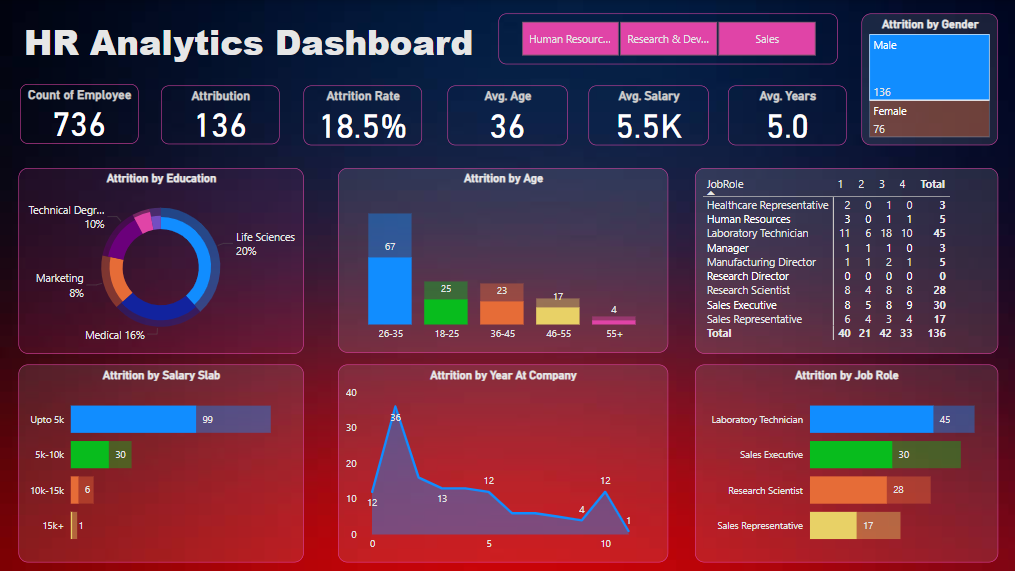

Layout of this report page (visuals, bound fields, positions):
{"tool":"powerbi","page":{"name":"Page 1","canvas":[1280,720],"ordinal":0},"visuals":[{"type":"card","title":"Count of Employee","fields":{"Values":["CountNonNull(HR_Analytics.EmpID)"]},"box":[26.5,105.8,149.3,75.6],"z":0},{"type":"card","title":"Avg. Age ","fields":{"Values":["Avg(HR_Analytics.Age)"]},"box":[565,107.7,151.2,75.6],"z":1000},{"type":"card","title":"Attribution","fields":{"Values":["Sum(HR_Analytics.AttritionCount)"]},"box":[204.1,107.7,149.3,73.7],"z":2000},{"type":"card","title":"Attrition Rate","fields":{"Values":["HR_Analytics.AttritionRate"]},"box":[383.6,107.7,149.3,75.6],"z":3000},{"type":"card","title":"Avg. Salary","fields":{"Values":["Avg(HR_Analytics.MonthlyIncome)"]},"box":[742.7,107.7,151.2,75.6],"z":4000},{"type":"card","title":"Avg. Years","fields":{"Values":["Avg(HR_Analytics.YearsAtCompany)"]},"box":[918.4,107.7,149.3,75.6],"z":5000},{"type":"donutChart","title":"Attrition by Education","fields":{"Category":["HR_Analytics.EducationField"],"Y":["Sum(HR_Analytics.AttritionCount)"]},"box":[24.6,211.7,359.1,234.3],"z":6000},{"type":"columnChart","title":"Attrition by Age","fields":{"Category":["HR_Analytics.AgeGroup"],"Y":["Sum(HR_Analytics.AttritionCount)"]},"box":[427.1,211.7,415.8,232.4],"z":7000},{"type":"pivotTable","fields":{"Rows":["HR_Analytics.JobRole"],"Columns":["HR_Analytics.JobSatisfaction"],"Values":["Sum(HR_Analytics.AttritionCount)"]},"box":[876.9,211.7,381.7,234.3],"z":8000},{"type":"barChart","title":"Attrition by Salary Slab","fields":{"Category":["HR_Analytics.SalarySlab"],"Y":["Sum(HR_Analytics.AttritionCount)"]},"box":[24.6,459.2,359.1,249.5],"z":9000},{"type":"barChart","title":"Attrition by Job Role","fields":{"Category":["HR_Analytics.JobRole"],"Y":["Sum(HR_Analytics.AttritionCount)"]},"box":[876.9,459.2,381.7,249.5],"z":10000},{"type":"areaChart","title":"Attrition by Year At Company","fields":{"Category":["HR_Analytics.YearsAtCompany"],"Y":["Sum(HR_Analytics.AttritionCount)"]},"box":[427.1,459.2,415.8,249.5],"z":11000},{"type":"treemap","title":"Attrition by Gender","fields":{"Group":["HR_Analytics.Gender"],"Values":["Sum(HR_Analytics.AttritionCount)"]},"box":[1086.6,17,172,166.3],"z":12000},{"type":"slicer","fields":{"Values":["HR_Analytics.Department"]},"box":[629.3,17,427.1,64.3],"z":13000},{"type":"textbox","box":[26.5,17,608.5,86.9],"z":14000}]}

Visuals, with their boxes in screenshot pixels (x1, y1, x2, y2), scaled from the page's 1280x720 canvas onto the 1015x571 screenshot:
"Count of Employee" card: region(21, 84, 139, 144)
"Avg. Age " card: region(448, 85, 568, 145)
"Attribution" card: region(162, 85, 280, 144)
"Attrition Rate" card: region(304, 85, 423, 145)
"Avg. Salary" card: region(589, 85, 709, 145)
"Avg. Years" card: region(728, 85, 847, 145)
"Attrition by Education" donutChart: region(20, 168, 304, 354)
"Attrition by Age" columnChart: region(339, 168, 668, 352)
pivotTable - HR_Analytics.JobRole x HR_Analytics.JobSatisfaction: region(695, 168, 998, 354)
"Attrition by Salary Slab" barChart: region(20, 364, 304, 562)
"Attrition by Job Role" barChart: region(695, 364, 998, 562)
"Attrition by Year At Company" areaChart: region(339, 364, 668, 562)
"Attrition by Gender" treemap: region(862, 13, 998, 145)
slicer - HR_Analytics.Department: region(499, 13, 838, 64)
textbox: region(21, 13, 504, 82)
